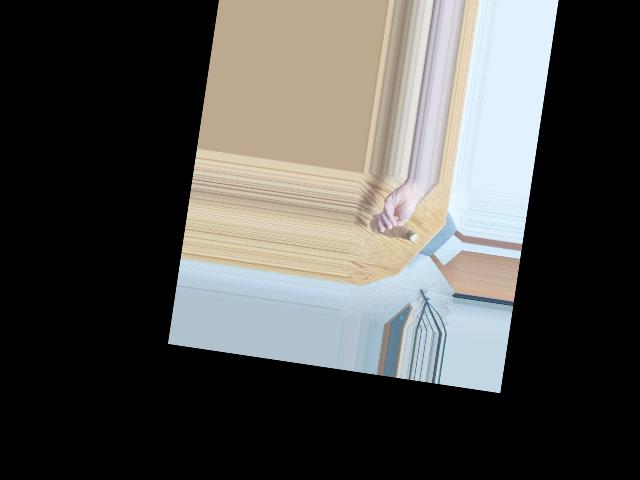sweet_potato: (368, 219, 423, 242)
